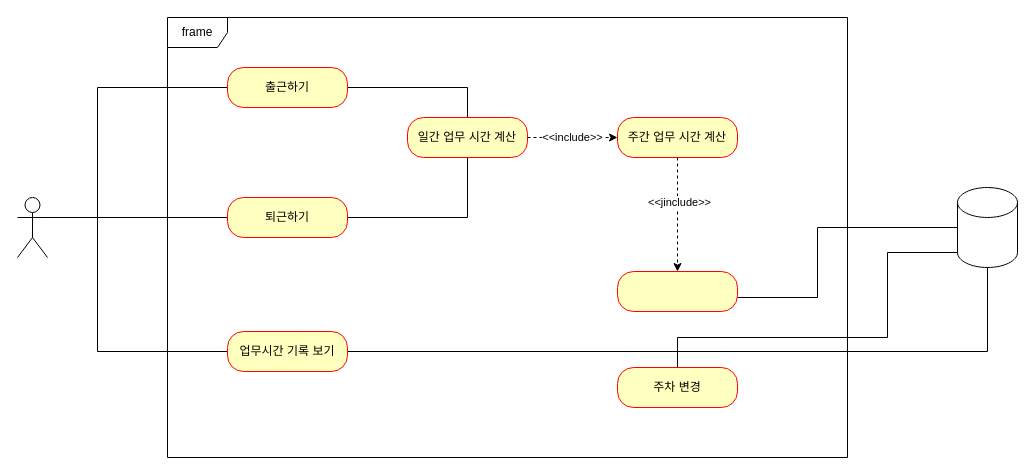
Some shapes in this 1035 by 475 pixel diagram are drawn without their labels. Here are the shapes that lost their labels. From the top down, the box of each, then its label:
(16, 196, 48, 258): Actor
(956, 186, 1018, 268): DB
(616, 270, 738, 312): 업무시간 기록
